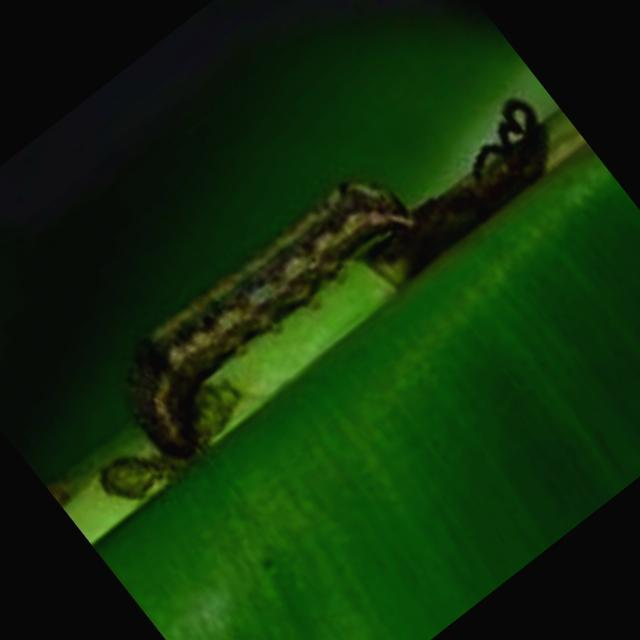Tobacco cutworm: (42, 58, 564, 546)
